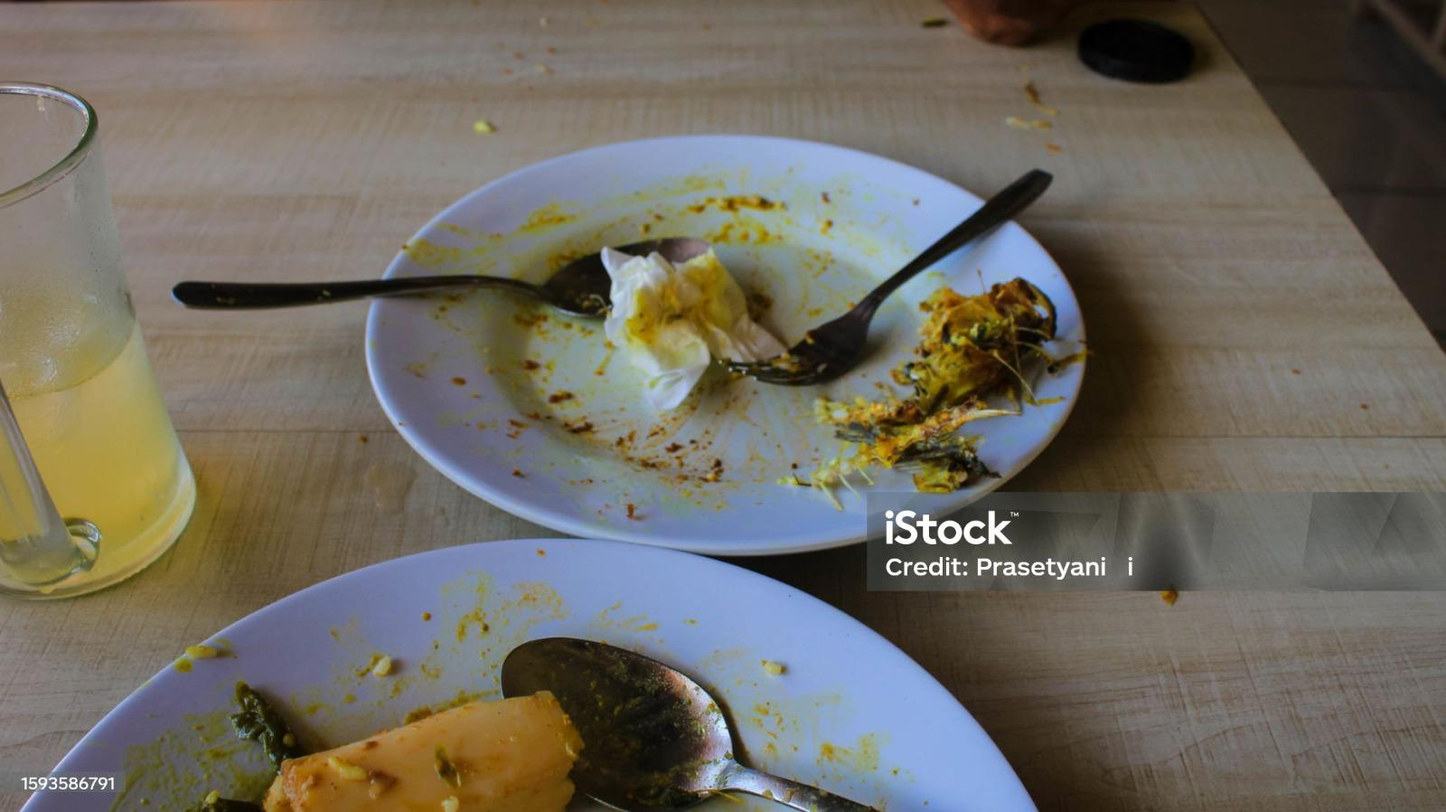Messy Table: (3, 7, 1376, 812)
